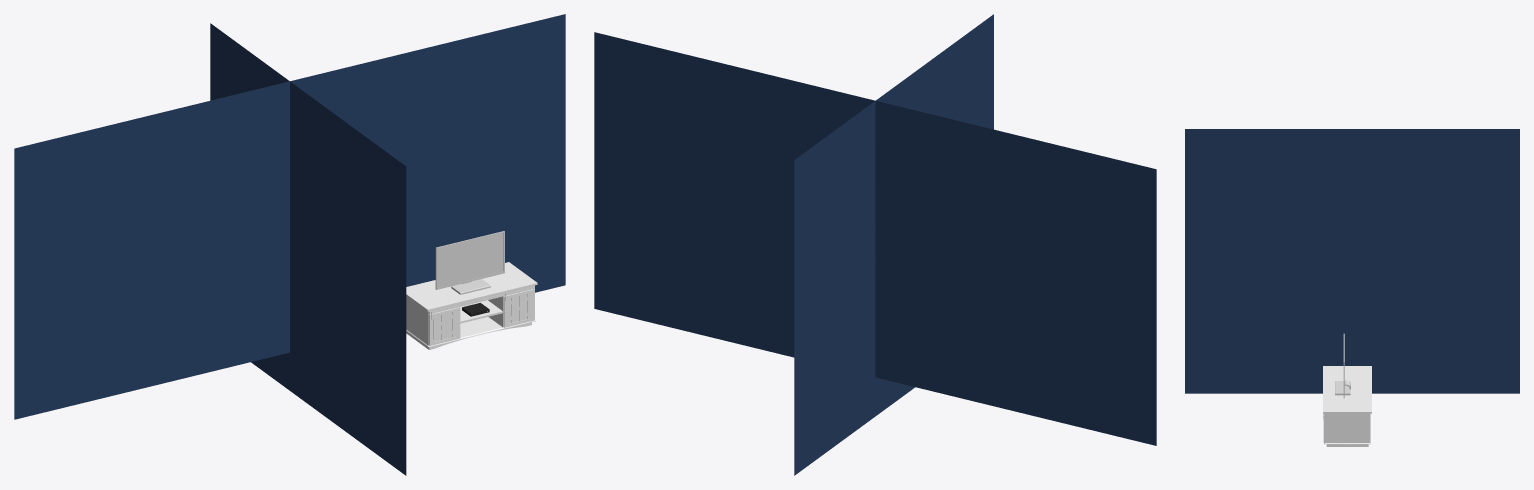
Rendered from scenev2.glb.
The picture shows the model from 3 angles, left to right: view 1: azimuth 30°, elevation 25°; view 2: azimuth 150°, elevation 25°; view 3: azimuth 270°, elevation 25°; orthographic projection. The views are drawn at different scales.
Parts seen in each view (by area): view 1: Plane.001, Plane.002, tv, geometry-lumionModel.002, geometry-lumionModel.003, geometry-lumionModel.005; view 2: Plane.001, Plane.002; view 3: Plane.002, geometry-lumionModel.003, geometry-lumionModel.002.
Part boxes in pixels (x1,y1,x2,y2): Plane.001: [14, 14, 565, 419]; Plane.002: [210, 23, 406, 475]; tv: [435, 231, 504, 294]; geometry-lumionModel.002: [406, 285, 535, 349]; geometry-lumionModel.003: [406, 262, 537, 311]; geometry-lumionModel.005: [429, 289, 534, 345]; Plane.001: [594, 32, 1156, 445]; Plane.002: [794, 14, 993, 475]; Plane.002: [1185, 129, 1519, 393]; geometry-lumionModel.003: [1323, 366, 1371, 413]; geometry-lumionModel.002: [1324, 413, 1370, 446].
Size of what is drawn, in the model's own units: 65.22 by 34.99 by 40.12.
